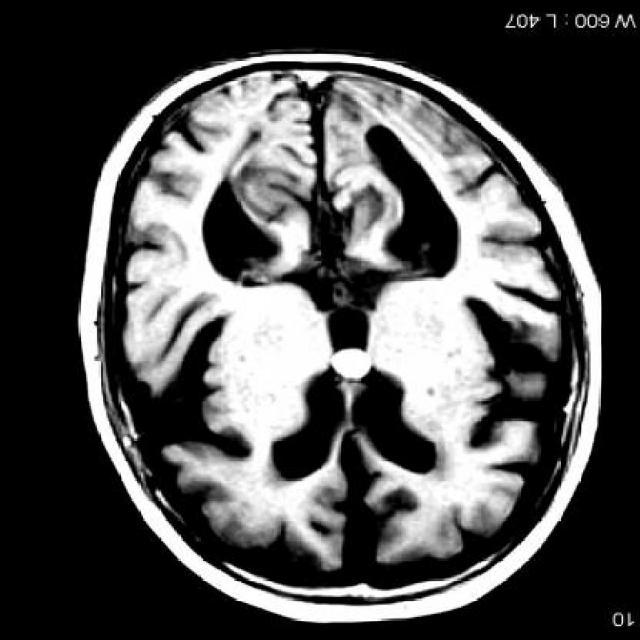Brain-Tumor: (310, 332, 402, 402)
